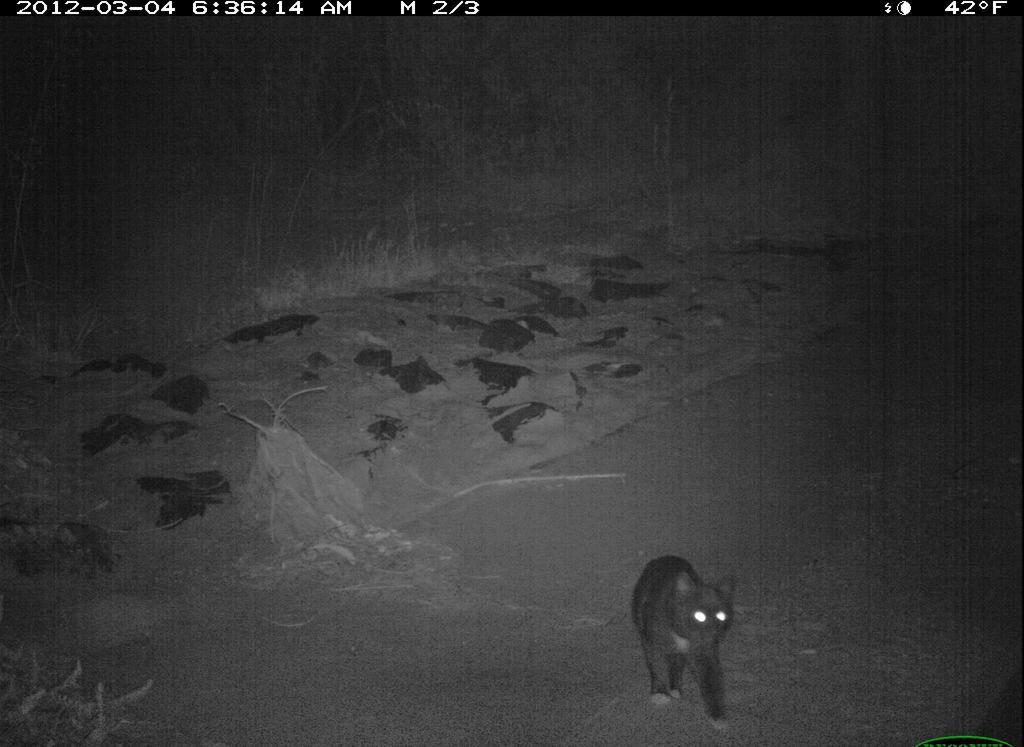cat: (630, 529, 753, 728)
